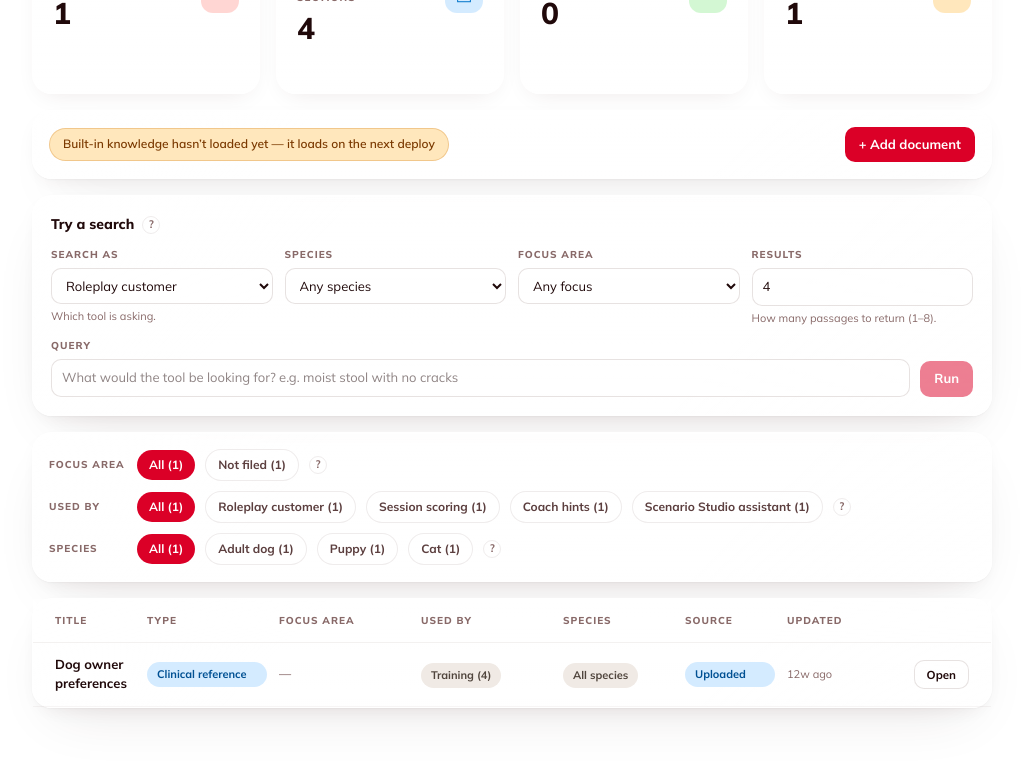
Test case: KnowledgeScreen read errors › says usage is unknown — not empty — when the scenario read fails
The image size is (1024, 768).
(page scrolled)
Click the text "Dog owner preferences" at point(95, 674), box x1=55 y1=655 x2=135 y2=694
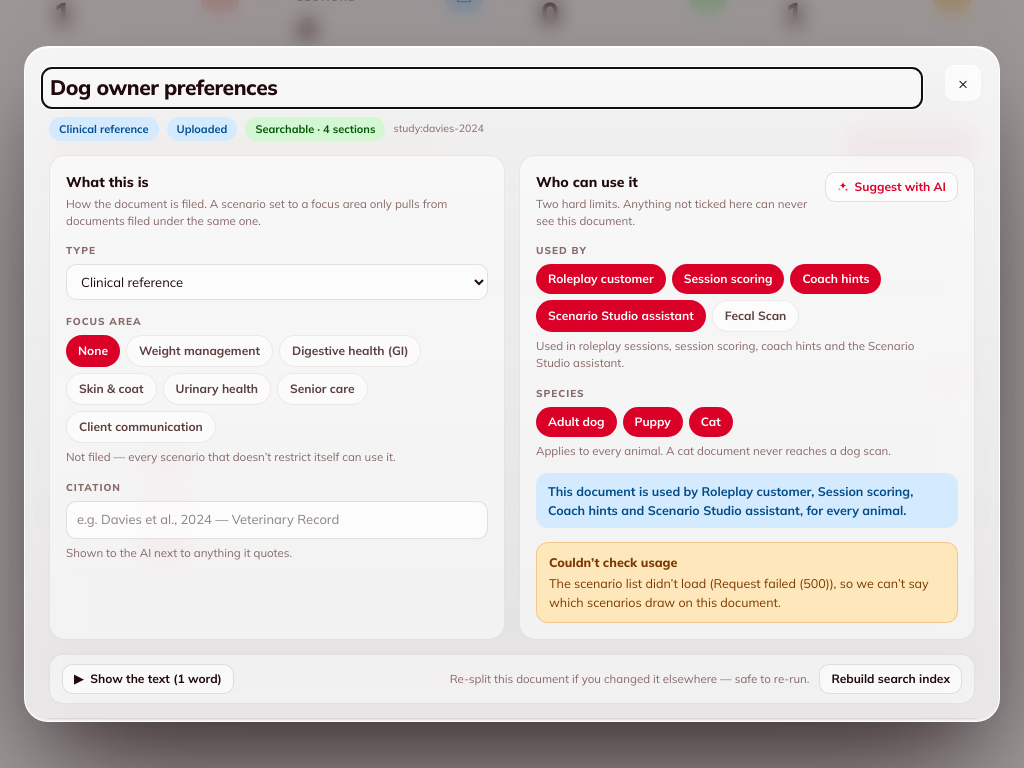
Check: the text "Couldn’t check usage" is shown, box x1=549 y1=554 x2=677 y2=570
